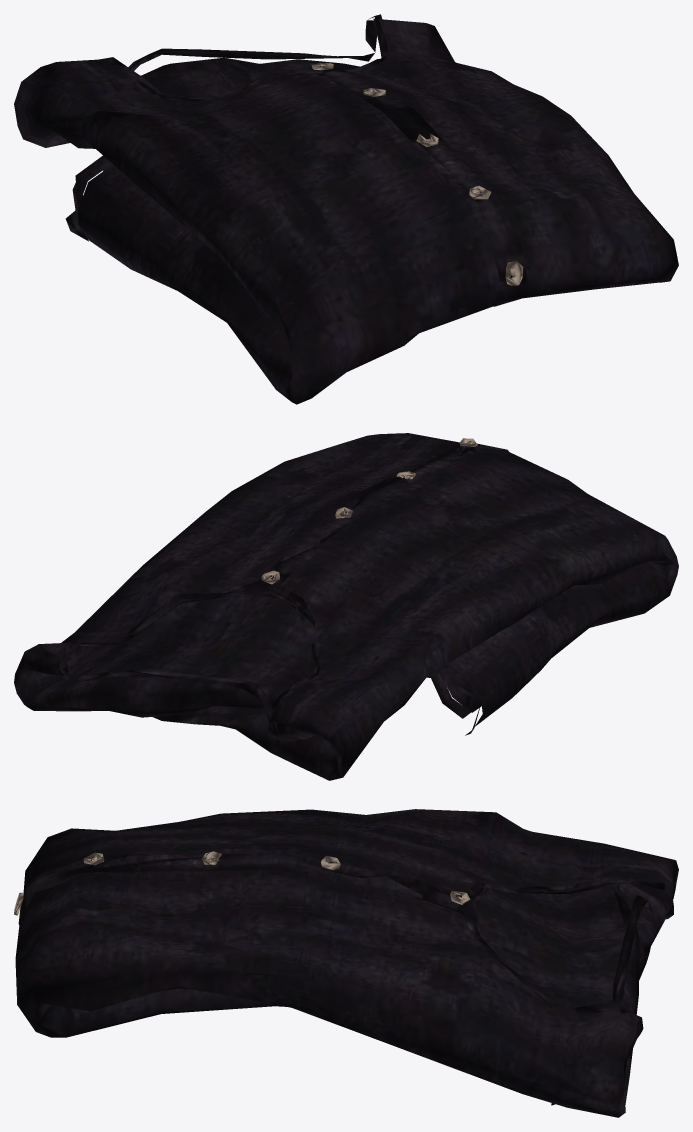
The model's file is hvfold_cloth4552.glb.
3 views of the same model, one above another, from view 1: azimuth 30°, elevation 25°; view 2: azimuth 150°, elevation 25°; view 3: azimuth 270°, elevation 25° (orthographic). The views are drawn at different scales.
Visible parts, largest first — view 1: BP_cloth4552; view 2: BP_cloth4552; view 3: BP_cloth4552.
Boxes of the visible parts, x1,y1,x2,y2 form: BP_cloth4552: (14,14,678,404); BP_cloth4552: (14,433,678,780); BP_cloth4552: (14,809,678,1117).
Bounding box in the file's own units: 0.2528 × 0.0909 × 0.3313.
Materials: 2 (2 with a texture image).
